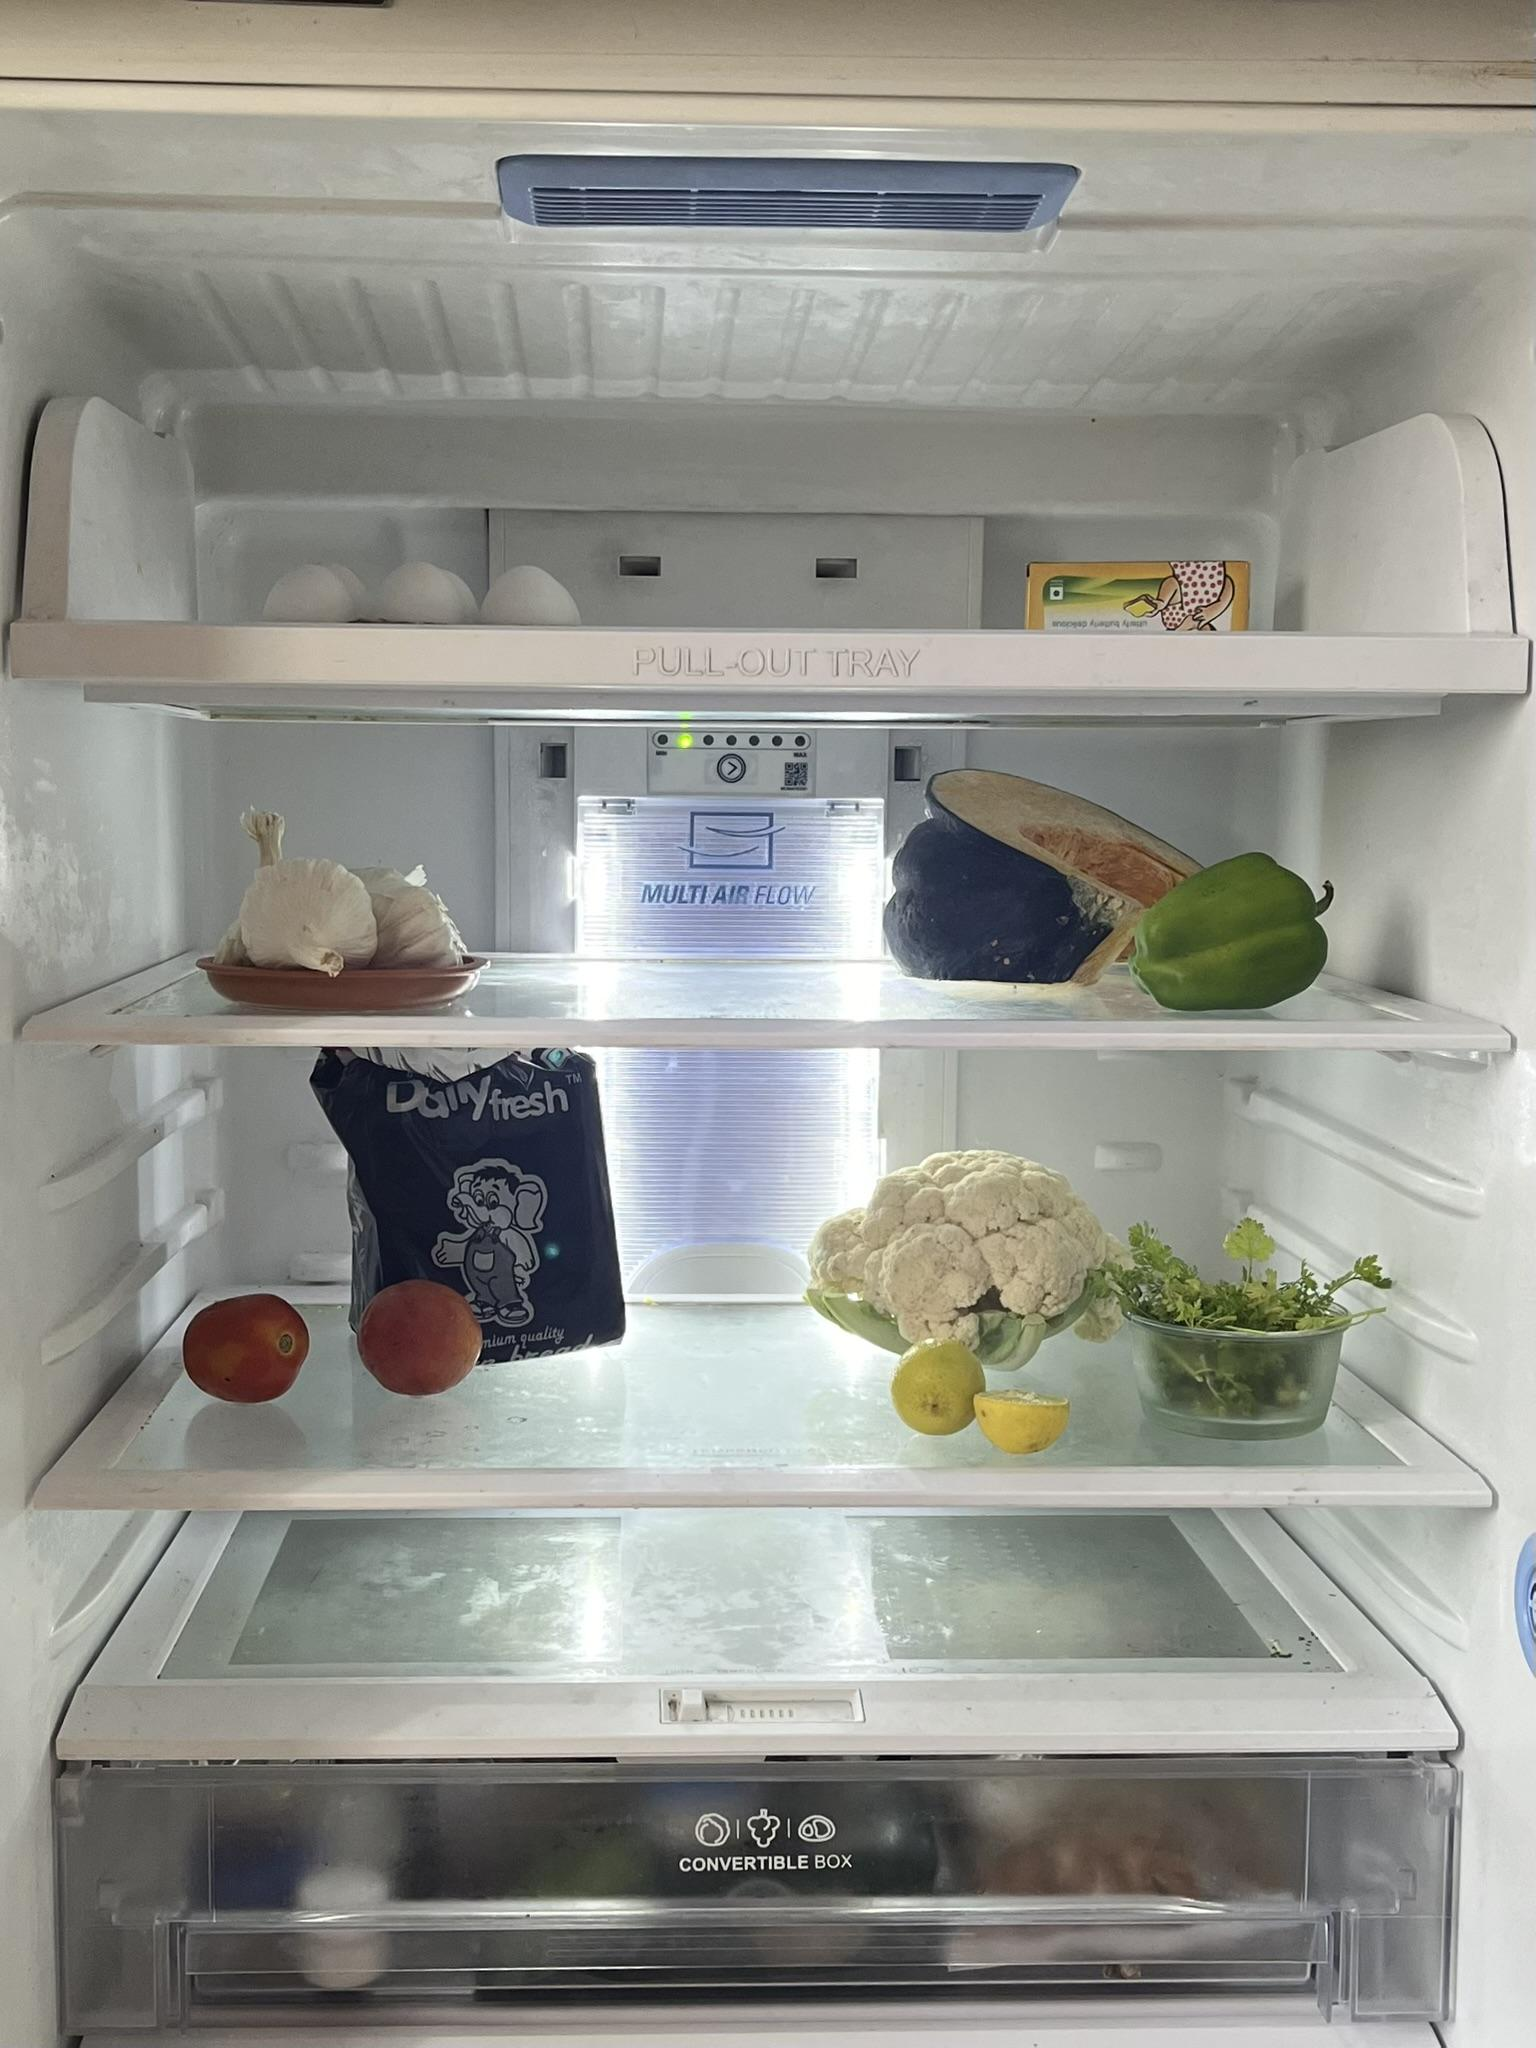bread: (310, 1047, 641, 1356)
butter: (1023, 547, 1260, 627)
capsicum: (1136, 830, 1347, 1016)
cauliflower: (803, 1137, 1133, 1359)
coriander: (1110, 1200, 1391, 1437)
egg: (250, 550, 597, 624)
garlic: (197, 810, 500, 974)
lemon: (876, 1343, 1066, 1463)
pumpkin: (879, 760, 1220, 987)
tomato: (181, 1277, 313, 1403), (357, 1280, 497, 1390)
